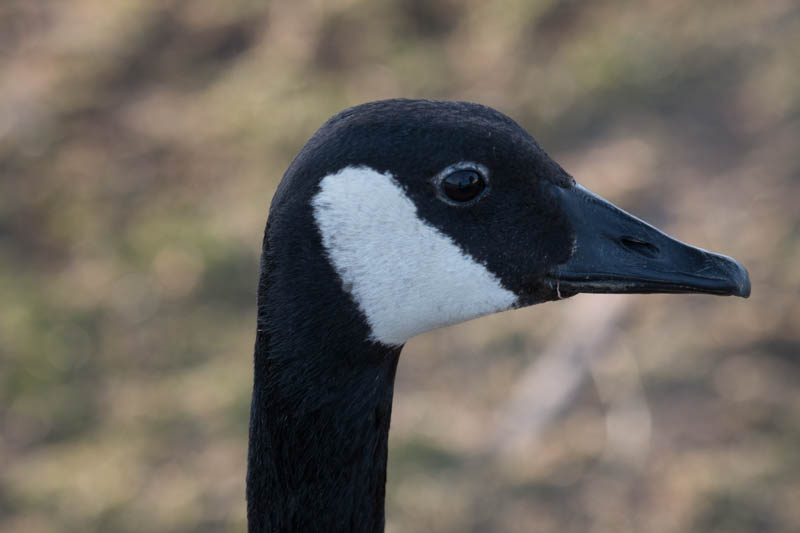goose-head: (257, 98, 751, 347)
